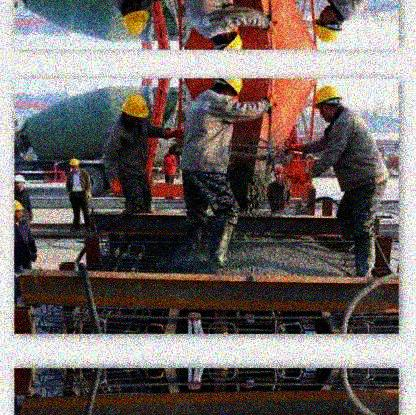helmet: (312, 86, 344, 123), (314, 6, 343, 44), (121, 1, 150, 35), (121, 91, 149, 125), (207, 28, 245, 49), (210, 77, 243, 100), (14, 199, 26, 223), (14, 174, 28, 193), (272, 167, 287, 182), (68, 158, 81, 172)
